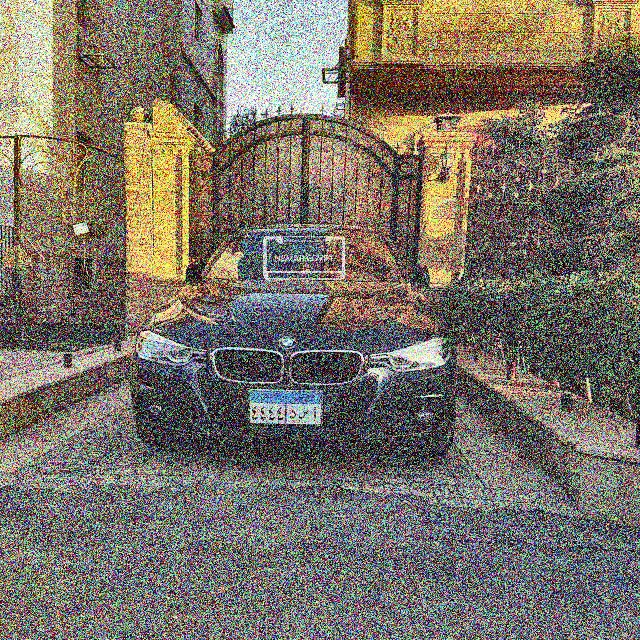License Plate: (245, 386, 324, 428)
